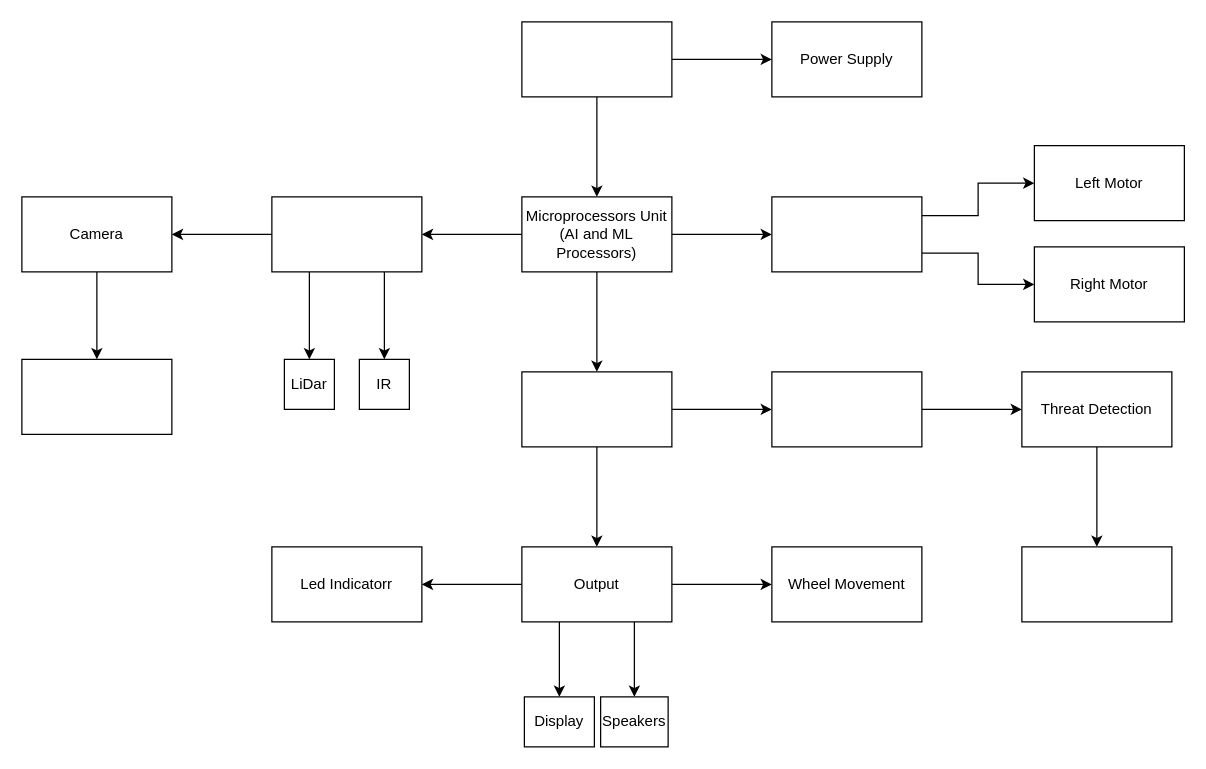
The diagram is 1206 pixels wide and 769 high, and some of its shapes have lost their labels. Each missing label, with the box of its shape:
Cloud Database: (771, 371, 922, 447)
Communication Iinterface: (521, 371, 672, 447)
Face Recognistion: (21, 358, 172, 434)
Motor Controller: (771, 196, 922, 272)
Robot Body: (521, 21, 672, 97)
Sending Signal to Officials: (1021, 546, 1172, 622)
Sensors: (271, 196, 422, 272)
